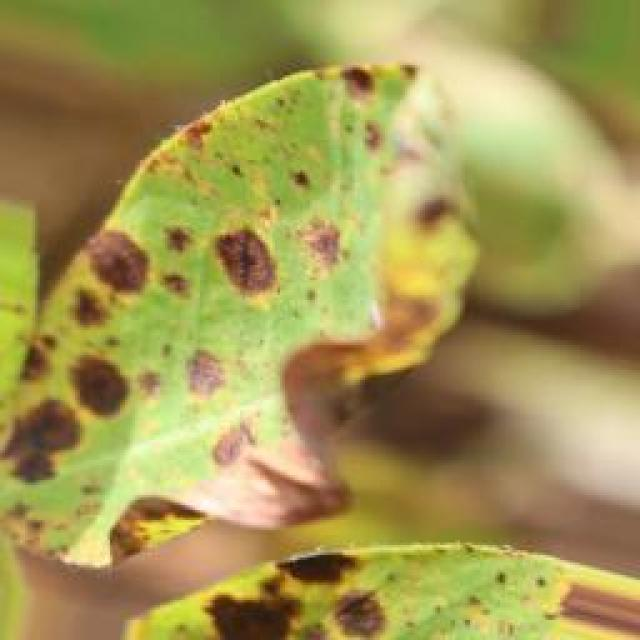Yellowish: (0, 25, 470, 523), (158, 524, 573, 640)
